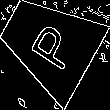P_NW: (20, 15, 77, 72)
